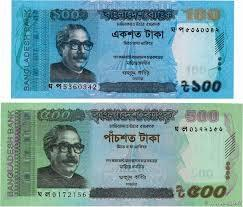500 tk: (0, 103, 243, 206)
